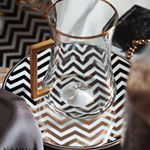other: (30, 1, 121, 120)
